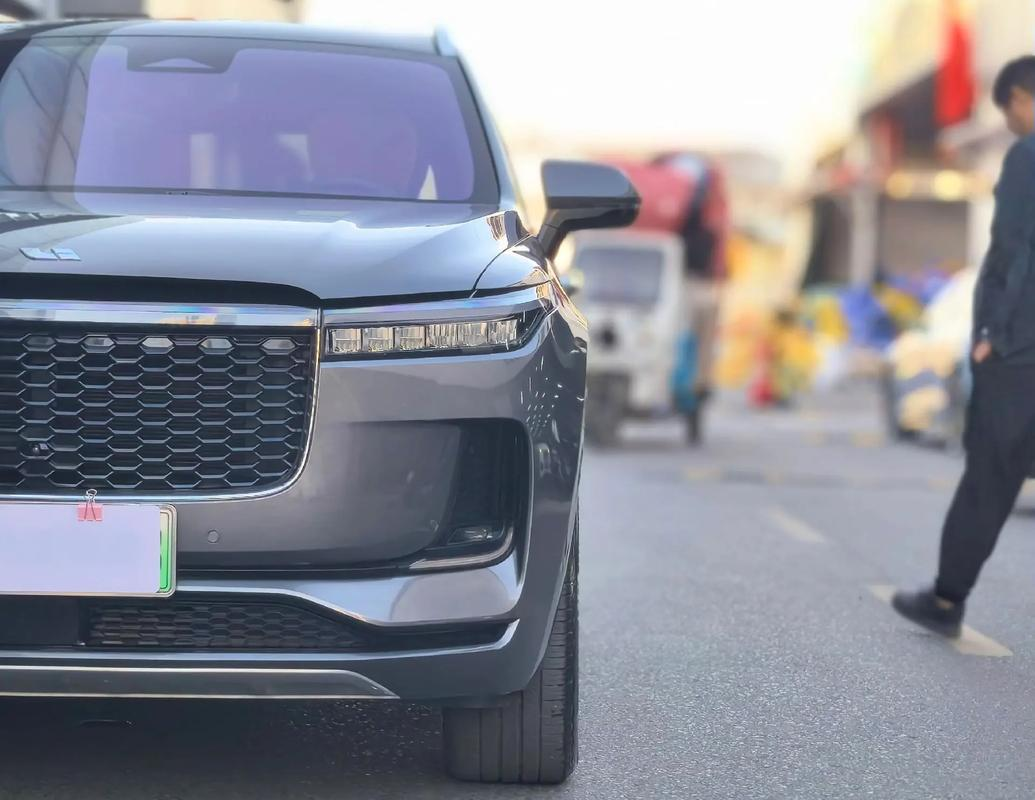Li Auto: (19, 247, 81, 261)
